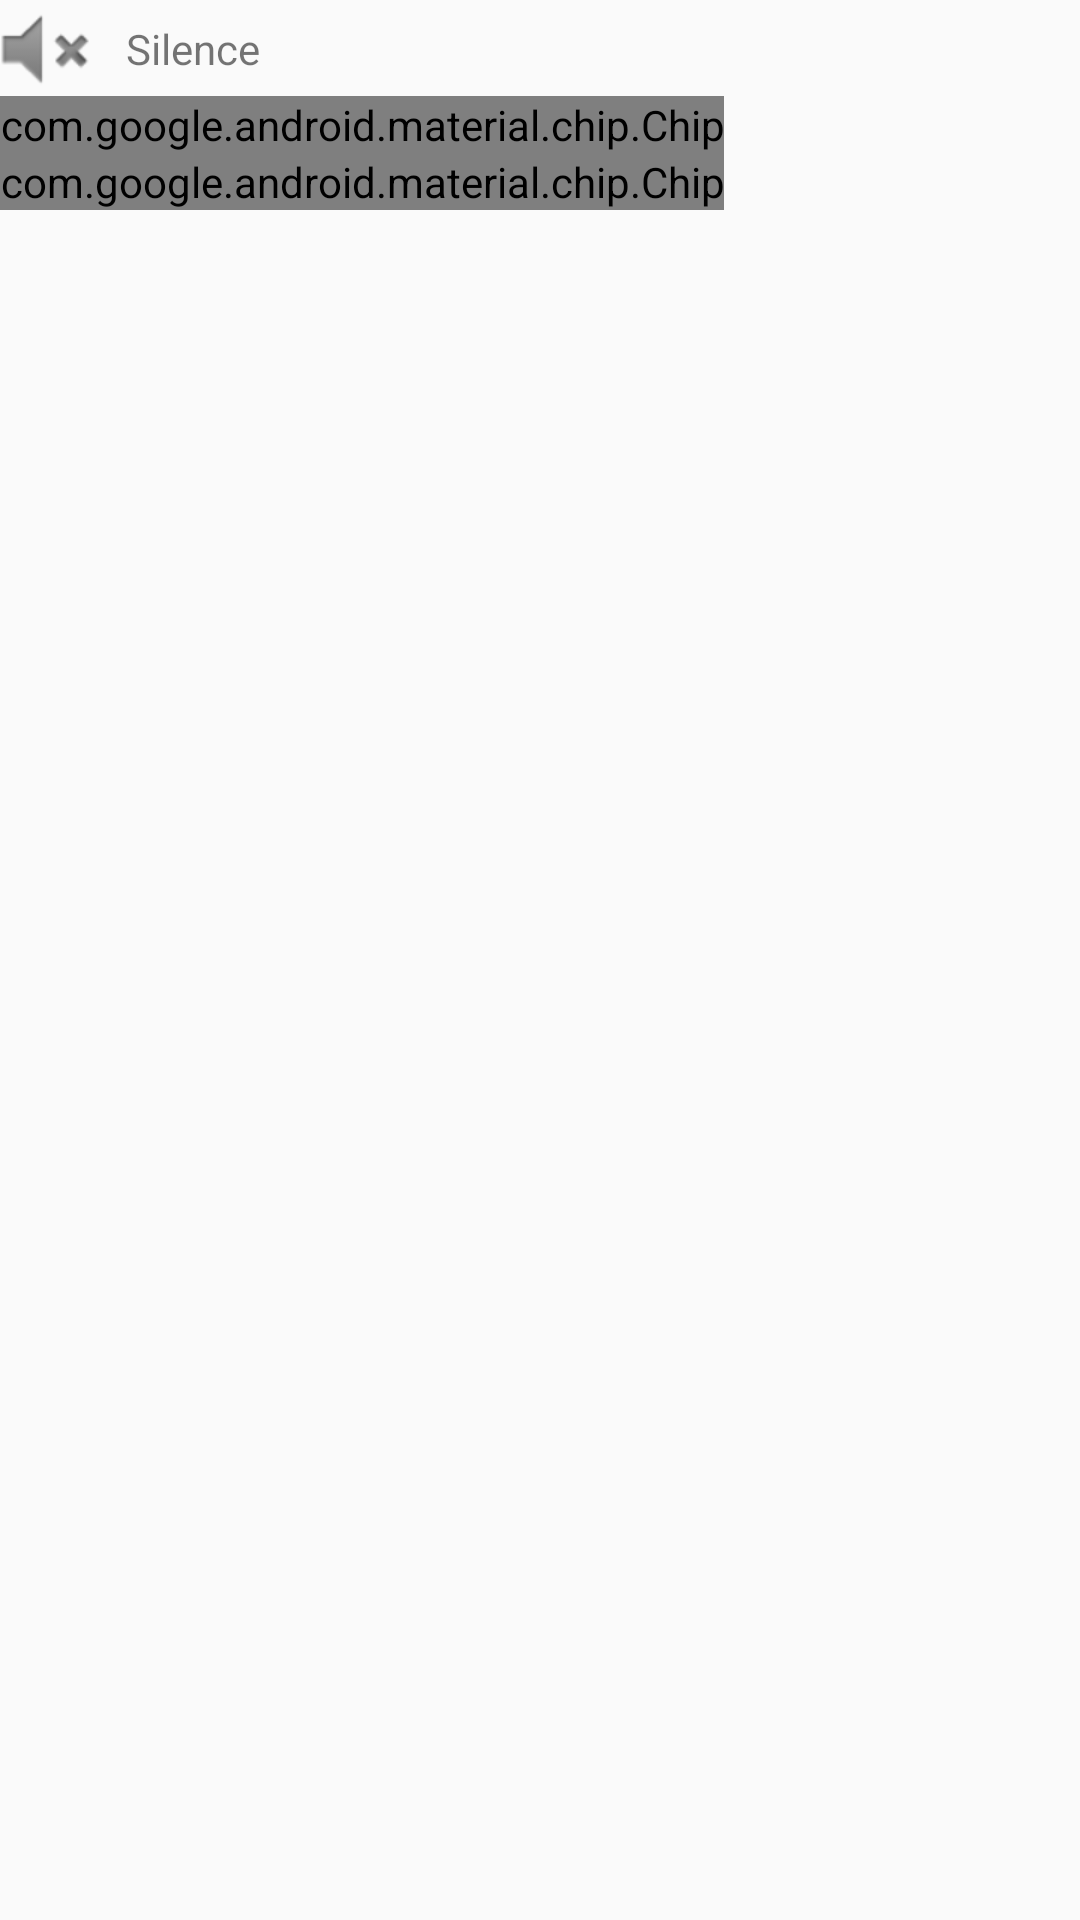

Icon bounding boxes for this 1080*1920 phone screenshot, format rect(x1, y1, x2, y2):
lock silent mode: rect(2, 16, 89, 83)
